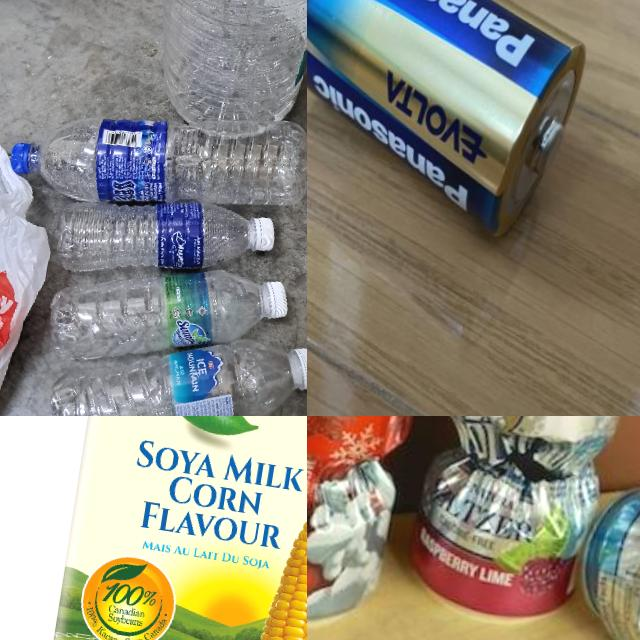bateria: (307, 0, 609, 266)
caixinha: (7, 416, 307, 640)
garrafa plástica: (27, 85, 307, 237), (44, 246, 272, 392), (43, 313, 304, 416), (130, 0, 307, 151), (51, 180, 260, 300)
lata: (405, 416, 640, 630), (307, 416, 439, 636)
sacola plástica: (0, 135, 66, 416)
tampa plástica: (260, 280, 292, 322), (252, 216, 278, 254), (288, 347, 307, 392), (9, 142, 31, 176)
